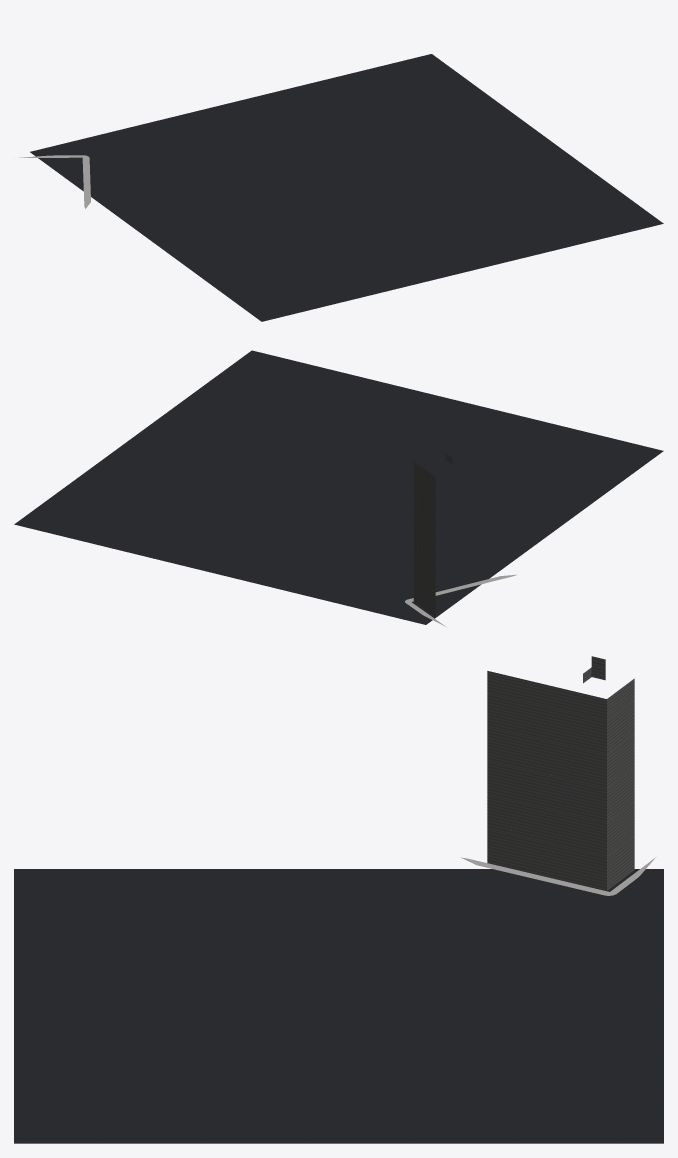
3 views of the same model, one above another, from view 1: azimuth 30°, elevation 25°; view 2: azimuth 150°, elevation 25°; view 3: azimuth 270°, elevation 25° (orthographic). The views are drawn at different scales.
Visible parts, largest first — view 1: t7_7, detail; view 2: t7_7, detail; view 3: t7_7, detail.
Boxes of the visible parts, x1,y1,x2,y2 form: t7_7: (30, 54, 663, 321); detail: (14, 155, 90, 208); t7_7: (14, 350, 663, 624); detail: (405, 574, 516, 626); t7_7: (14, 656, 663, 1143); detail: (461, 857, 655, 895).
Bounding box in the file's own units: 261 × 90.73 × 250.
3 materials, 2 textured.
